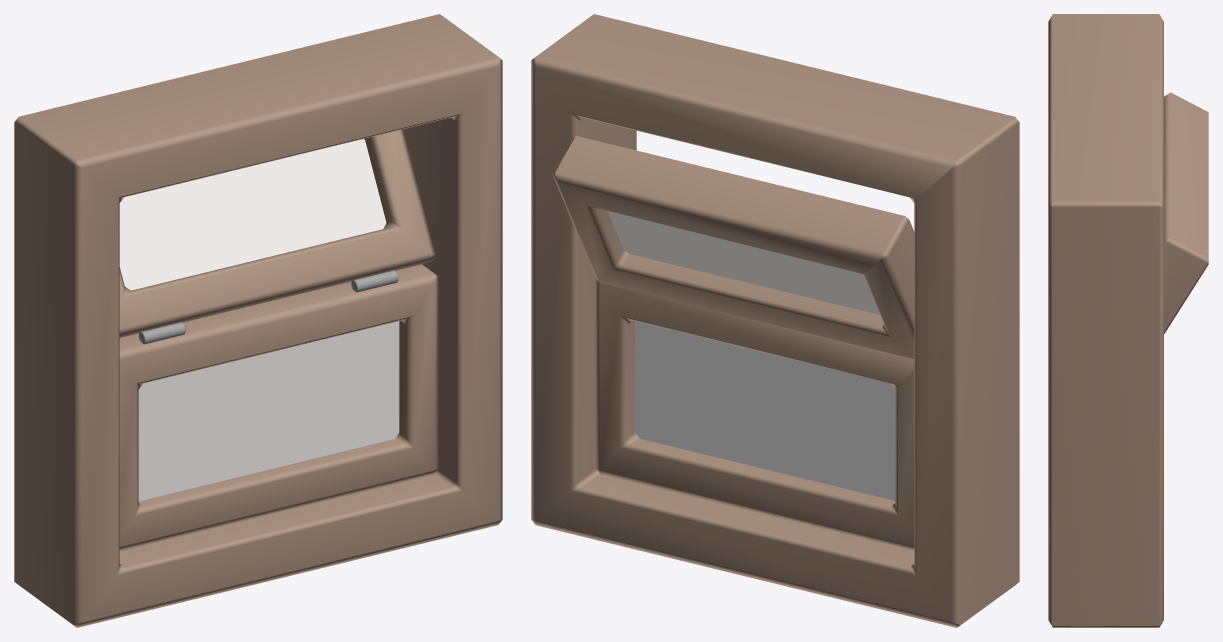
The model's file is Window_4.glb.
The picture shows the model from 3 angles, left to right: view 1: azimuth 30°, elevation 25°; view 2: azimuth 150°, elevation 25°; view 3: azimuth 270°, elevation 25°; orthographic projection. The views are drawn at different scales.
Parts seen in each view (by area): view 1: Window_4; view 2: Window_4; view 3: Window_4.
Boxes of the visible parts, left/top/right/bottom form: Window_4: left=14, top=14, right=502, bottom=627; Window_4: left=531, top=14, right=1019, bottom=627; Window_4: left=1048, top=14, right=1208, bottom=627.
Bounding box in the file's own units: 1.84 × 1.92 × 0.6545.
Materials: 2 (2 with a texture image).
